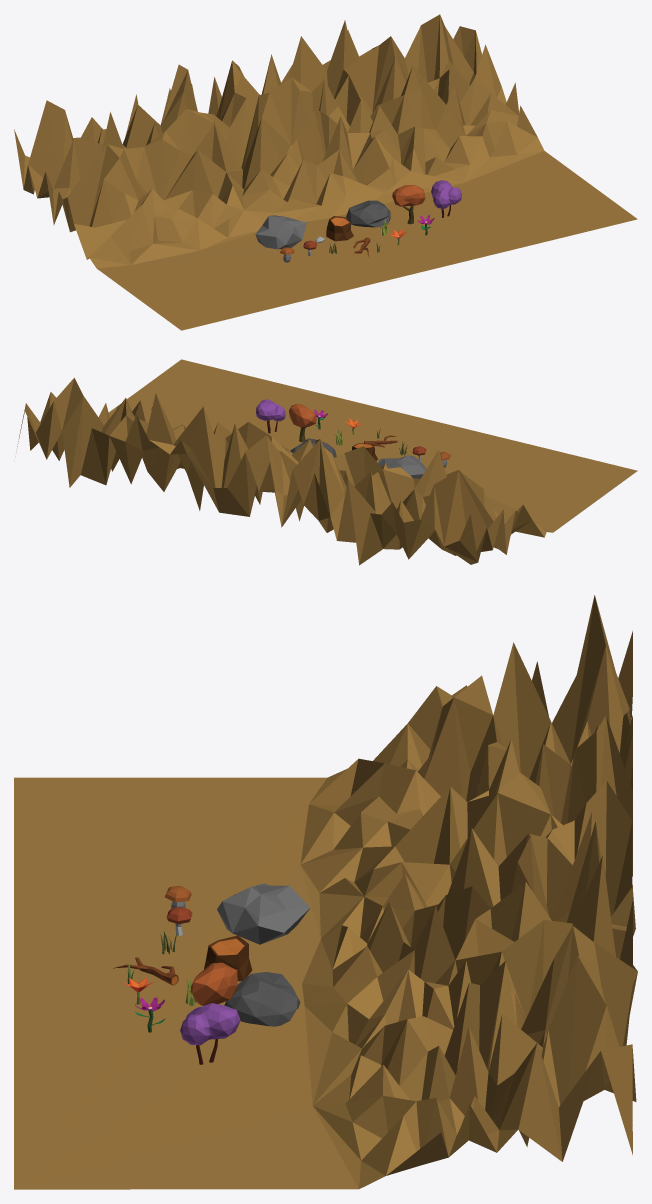
The picture shows the model from 3 angles, top to bottom: view 1: azimuth 30°, elevation 25°; view 2: azimuth 150°, elevation 25°; view 3: azimuth 270°, elevation 25°; orthographic projection. The views are drawn at different scales.
Visible parts, largest first — view 1: Plane, Stone00, Stone01, Bush00, Bush01, Stump00; view 2: Plane, Stone00, Bush00, Bush01; view 3: Plane, Stone00, Stone01, Bush01, Bush00, Stump00.
Part boxes in pixels (bbox=[...]): Plane: bbox=[14, 14, 637, 330]; Stone00: bbox=[255, 215, 306, 249]; Stone01: bbox=[346, 200, 390, 227]; Bush00: bbox=[392, 185, 425, 224]; Bush01: bbox=[431, 180, 461, 217]; Stump00: bbox=[326, 216, 353, 241]; Plane: bbox=[16, 359, 637, 565]; Stone00: bbox=[378, 455, 426, 478]; Bush00: bbox=[289, 403, 316, 442]; Bush01: bbox=[256, 399, 285, 433]; Plane: bbox=[14, 595, 637, 1189]; Stone00: bbox=[217, 883, 310, 944]; Stone01: bbox=[224, 972, 300, 1026]; Bush01: bbox=[180, 1003, 240, 1064]; Bush00: bbox=[190, 962, 237, 1005]; Stump00: bbox=[204, 935, 252, 981].
Bounding box in the file's own units: 1982 × 497 × 1259.
